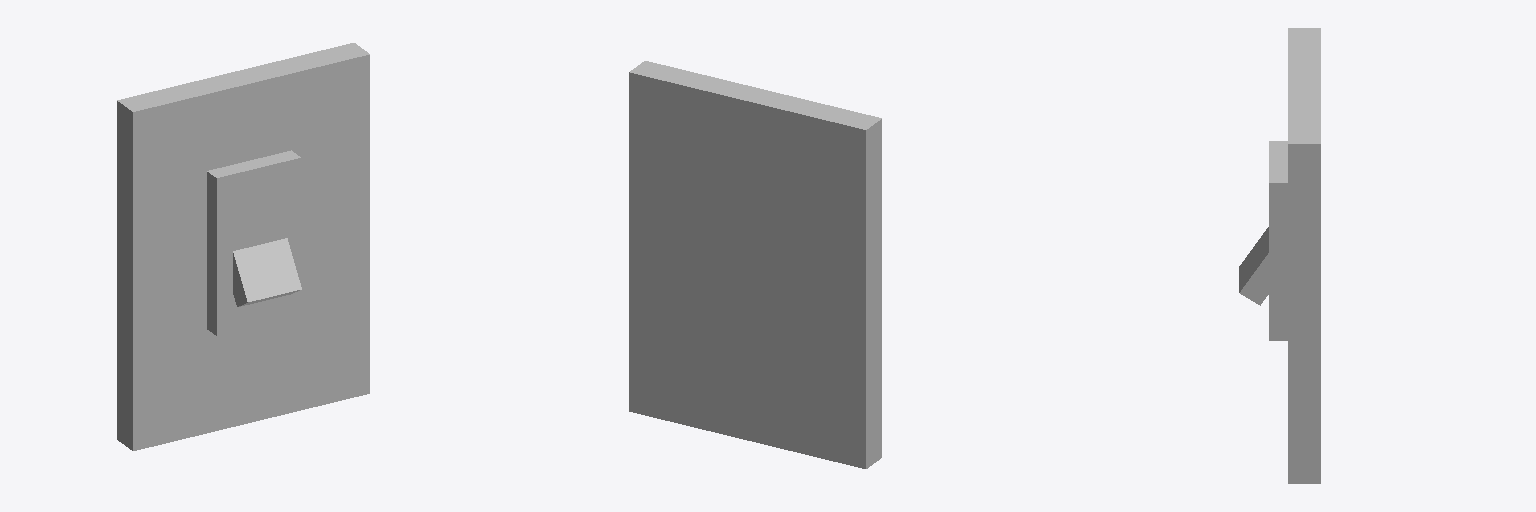
Rendered from light_switch.obj.
3 renders of one model, left to right at view 1: azimuth 30°, elevation 25°; view 2: azimuth 150°, elevation 25°; view 3: azimuth 270°, elevation 25°, orthographic.
Visible parts, largest first — view 1: switch0_Cube.001, switch1_Cube.002, switch2_Cube.003; view 2: switch0_Cube.001; view 3: switch0_Cube.001, switch1_Cube.002, switch2_Cube.003.
Part boxes in pixels (x1,y1,x2,y2): switch0_Cube.001: (117,43,369,450); switch1_Cube.002: (207,150,300,335); switch2_Cube.003: (233,238,301,306); switch0_Cube.001: (629,61,881,468); switch0_Cube.001: (1288,28,1320,483); switch1_Cube.002: (1269,141,1287,340); switch2_Cube.003: (1239,227,1268,305).
Bounding box in the file's own units: 0.7104 × 0.9704 × 0.2113.